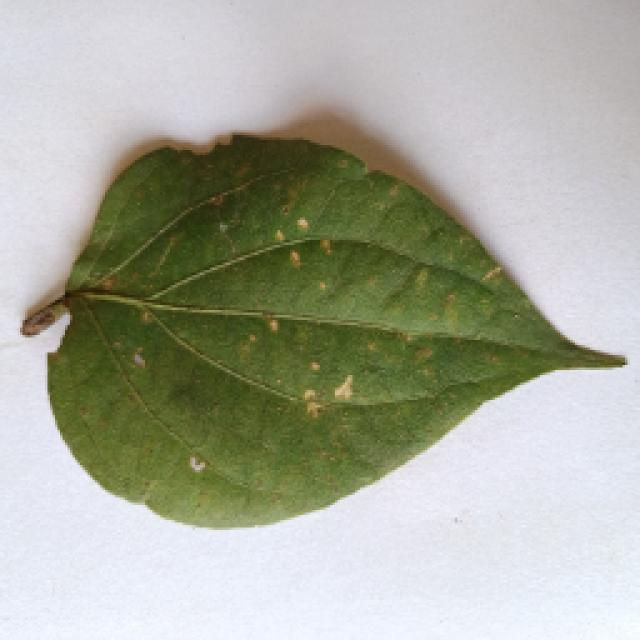pollu-disease: (25, 132, 623, 522)
